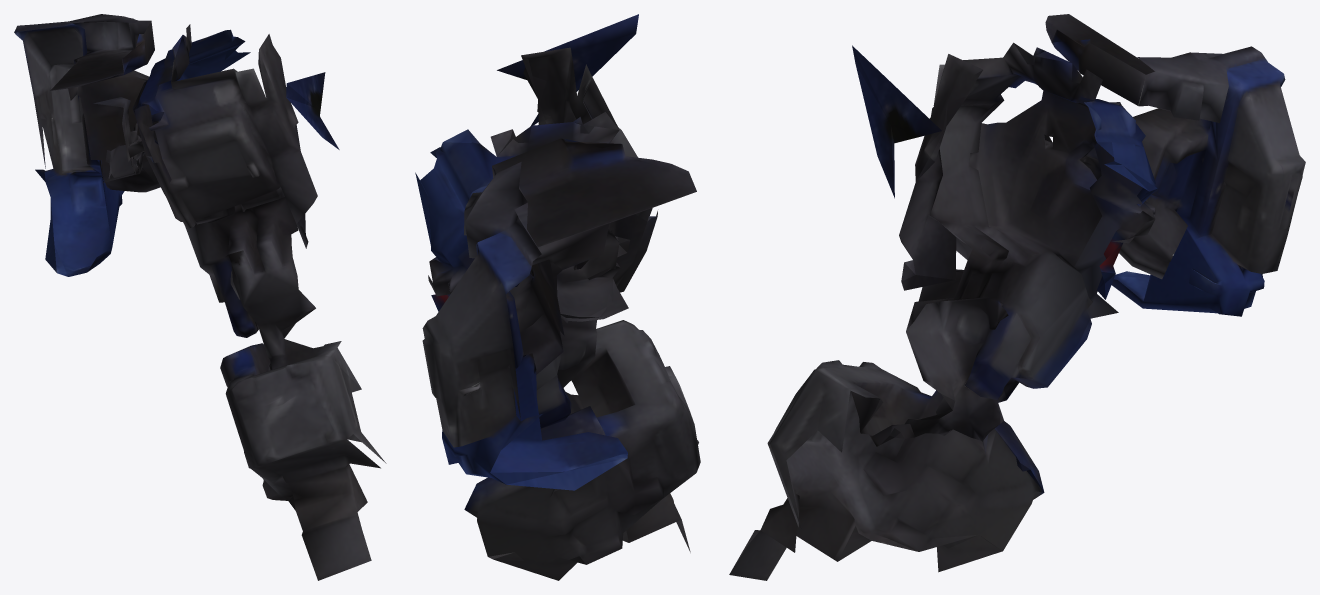
Rendered from blue_leg_left_upper.glb.
3 views of the same model, side by side, from view 1: azimuth 30°, elevation 25°; view 2: azimuth 150°, elevation 25°; view 3: azimuth 270°, elevation 25° (orthographic). The views are drawn at different scales.
Visible parts, largest first — view 1: blue_leg_left_upper; view 2: blue_leg_left_upper; view 3: blue_leg_left_upper.
Boxes of the visible parts, box(x1,y1,x2,y2) form: blue_leg_left_upper: box(14, 14, 386, 580); blue_leg_left_upper: box(415, 14, 700, 580); blue_leg_left_upper: box(729, 14, 1305, 580).
Bounding box in the file's own units: 1.02 × 2.07 × 2.01.
Materials: 1 (1 with a texture image).
